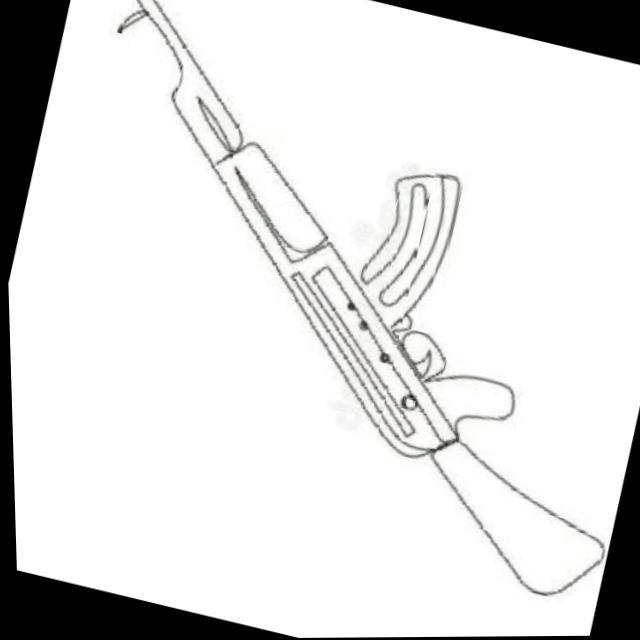weapon: (5, 0, 640, 610)
